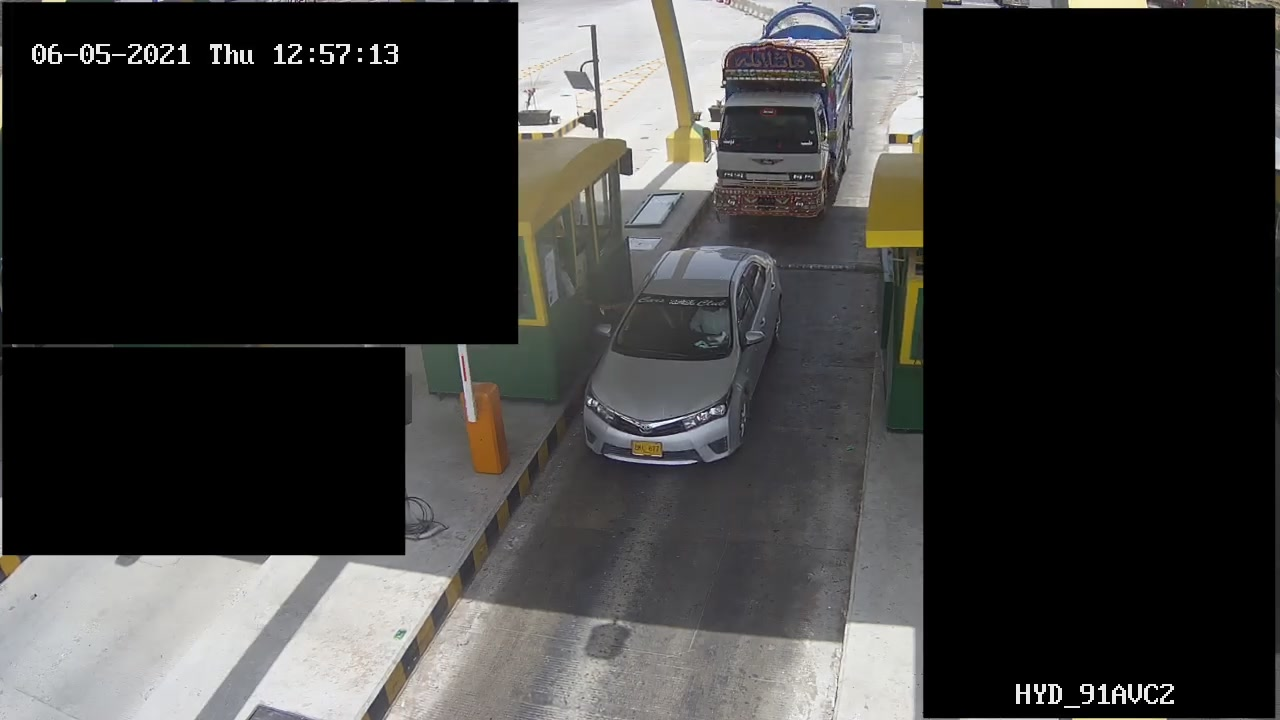F1: (578, 232, 783, 472)
F5: (712, 1, 865, 230)
